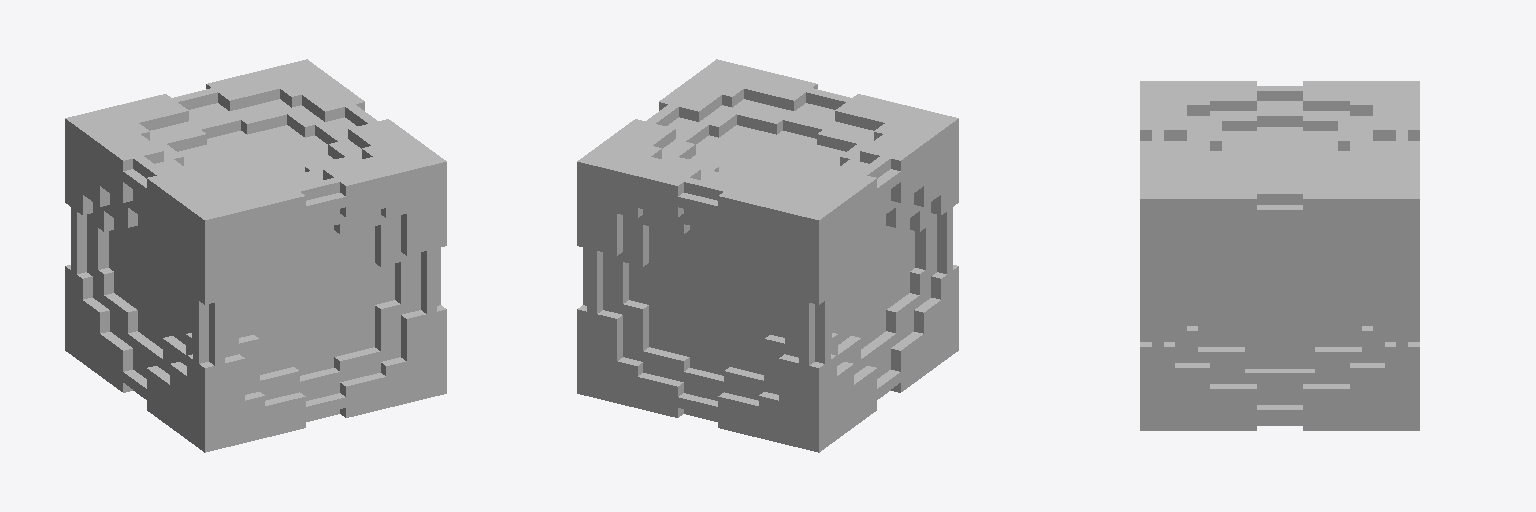
The model's file is wall 1.obj.
3 views of the same model, side by side, from view 1: azimuth 30°, elevation 25°; view 2: azimuth 150°, elevation 25°; view 3: azimuth 270°, elevation 25° (orthographic).
Visible parts, largest first — view 1: wall_wall.001; view 2: wall_wall.001; view 3: wall_wall.001.
Boxes of the visible parts, <box> form: wall_wall.001: <box>65,59,446,452</box>; wall_wall.001: <box>577,59,958,452</box>; wall_wall.001: <box>1140,81,1419,430</box>.
Size of the model in its own units: 24 by 22 by 24.